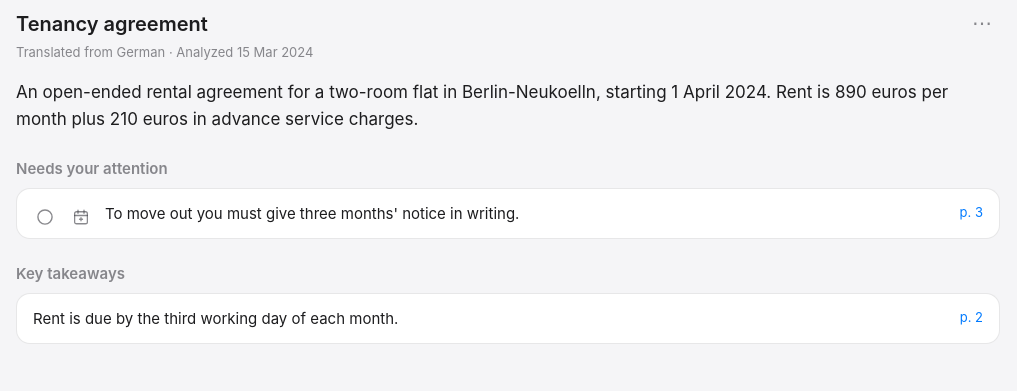
Test: ExtractionPanel › reveals the German sourceQuote only for the selected row
Expected: the text "Die Miete ist spätestens am dritten Werktag eines jeden Monats zu zahlen." is not shown
Click the button "Rent is due by the third working day of each month. p. 2" at (216, 319), box [17,294,999,343]
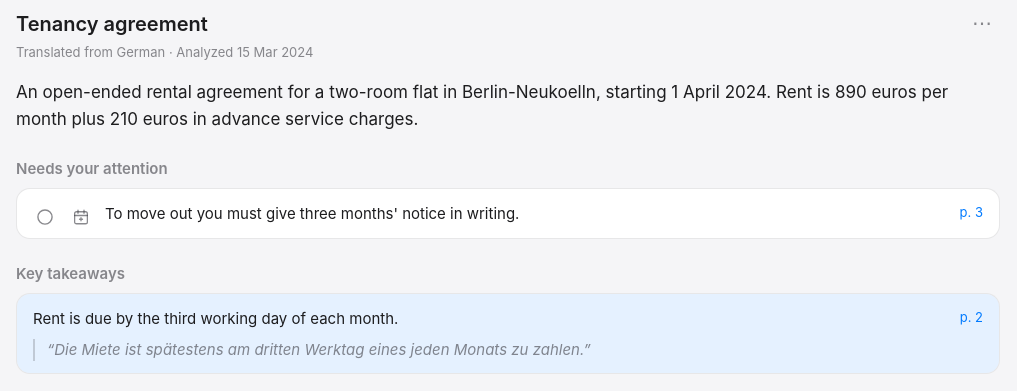
Result: the text "Die Miete ist spätestens am dritten Werktag eines jeden Monats zu zahlen." is shown at [47,340,591,359]
Result: the 4th button is expanded
Selecting again collapses it.
Click the 4th button at (216, 319), box [17,294,999,373]
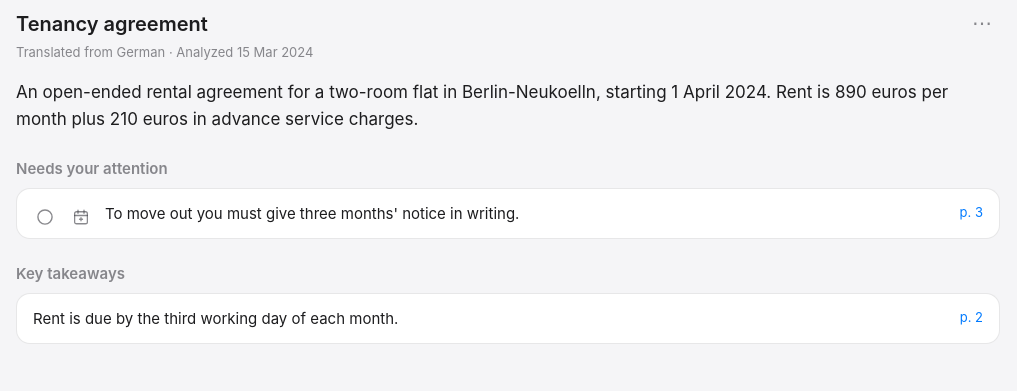
Result: the text "Die Miete ist spätestens am dritten Werktag eines jeden Monats zu zahlen." is gone
